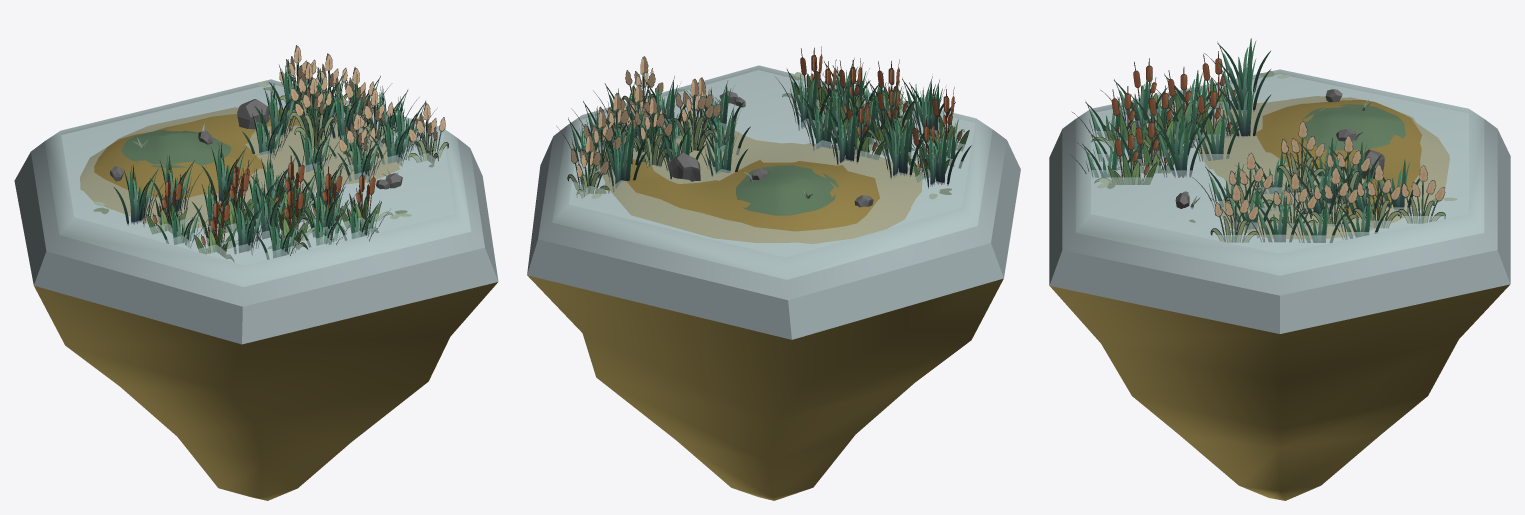
File: Basic Wetlands_1.4.fbx
3 views of the same model, side by side, from view 1: azimuth 30°, elevation 25°; view 2: azimuth 150°, elevation 25°; view 3: azimuth 270°, elevation 25° (orthographic). The views are drawn at different scales.
Parts seen in each view (by area): view 1: polySurface881; view 2: polySurface881; view 3: polySurface881.
Boxes of the visible parts, <box> form: polySurface881: <box>14,45,498,500</box>; polySurface881: <box>527,46,1020,500</box>; polySurface881: <box>1049,38,1510,500</box>.
Bounding box in the file's own units: 11.53 × 10.09 × 9.99.
14 materials, 3 textured.
